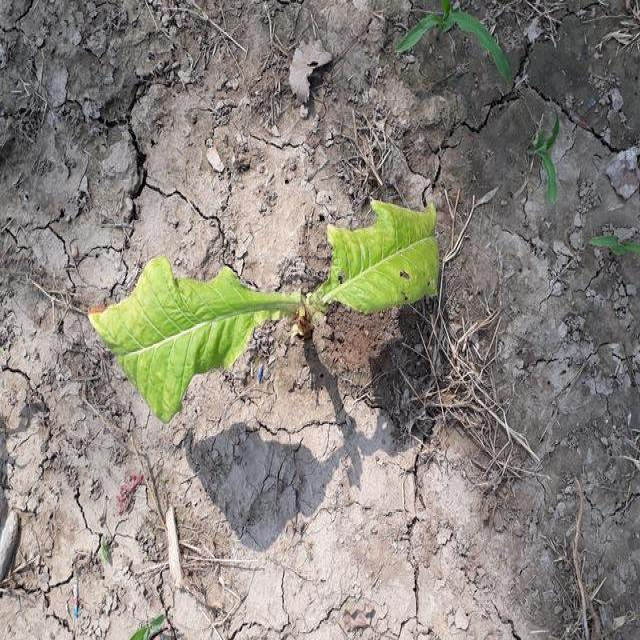crop: (118, 204, 444, 418)
